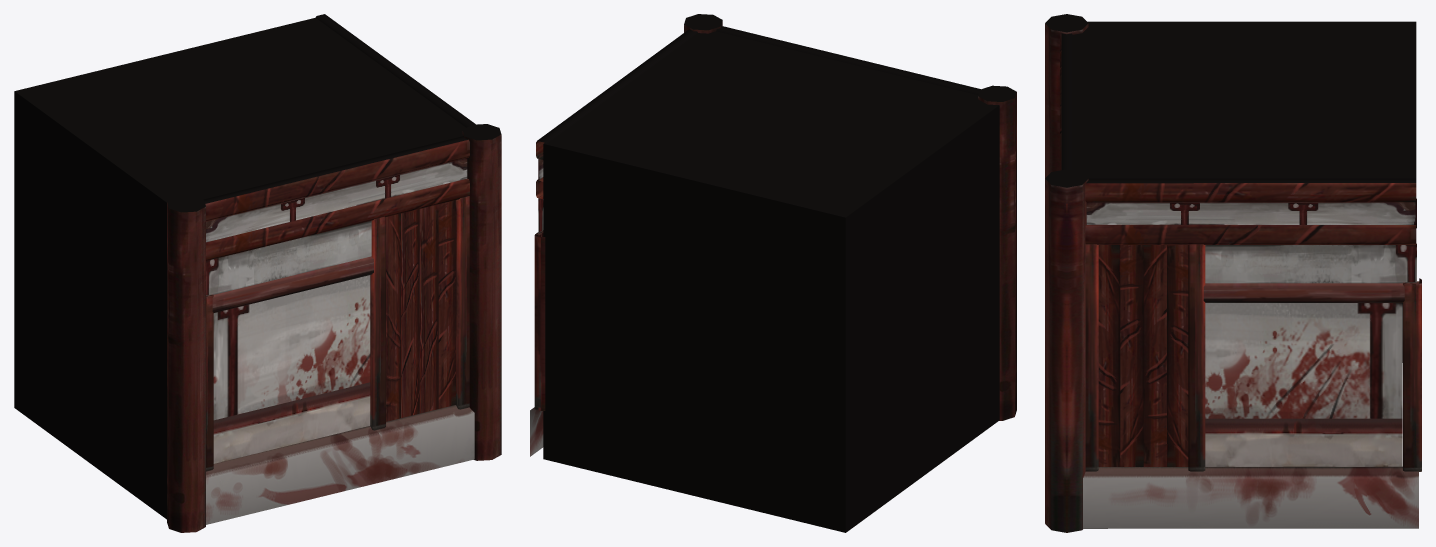
Rendered from STR_WallSimpleCornerBroken.FBX.
The picture shows the model from 3 angles, left to right: view 1: azimuth 30°, elevation 25°; view 2: azimuth 150°, elevation 25°; view 3: azimuth 270°, elevation 25°; orthographic projection. The views are drawn at different scales.
Parts seen in each view (by area): view 1: STR_WallSimpleCornerBroken; view 2: STR_WallSimpleCornerBroken; view 3: STR_WallSimpleCornerBroken.
Boxes of the visible parts, x1=… form: STR_WallSimpleCornerBroken: x1=14, y1=14, x2=501, y2=532; STR_WallSimpleCornerBroken: x1=530, y1=14, x2=1016, y2=532; STR_WallSimpleCornerBroken: x1=1045, y1=14, x2=1421, y2=532.
Size of the model in its own units: 335 by 311 by 307.
1 material, 1 textured.
